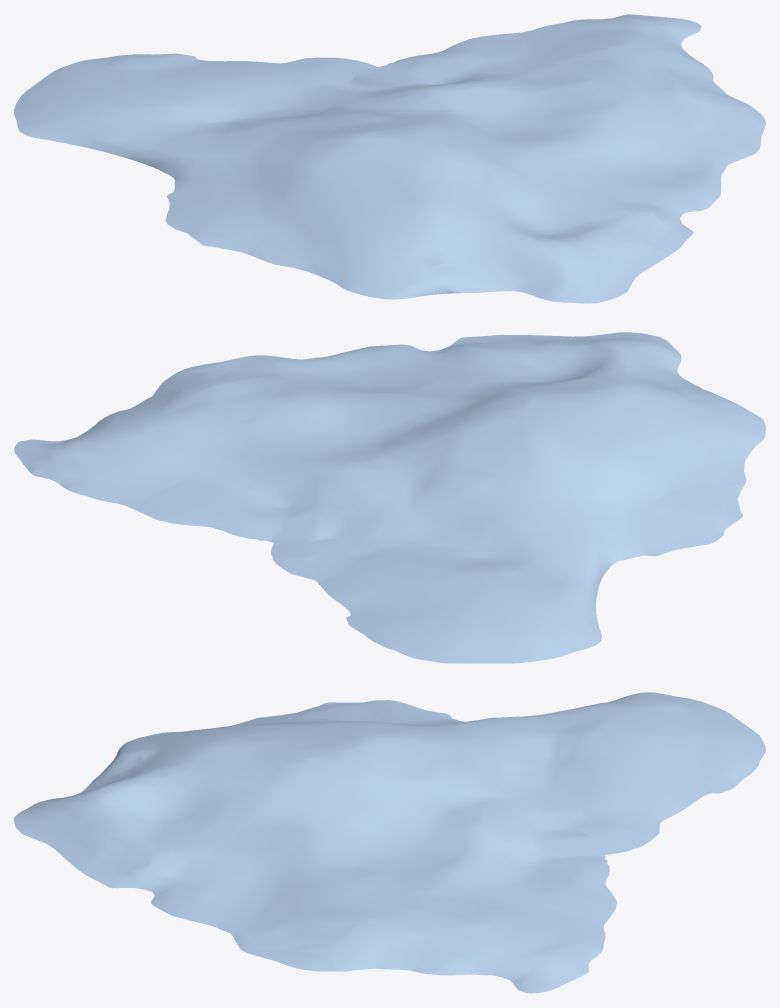
Rendered from IcePatchLarge_03.fbx.
The picture shows the model from 3 angles, top to bottom: view 1: azimuth 30°, elevation 25°; view 2: azimuth 150°, elevation 25°; view 3: azimuth 270°, elevation 25°; orthographic projection. The views are drawn at different scales.
Parts seen in each view (by area): view 1: IcePatchLarge_03.001; view 2: IcePatchLarge_03.001; view 3: IcePatchLarge_03.001.
Part boxes in pixels (bbox=[...]): IcePatchLarge_03.001: bbox=[14, 14, 765, 303]; IcePatchLarge_03.001: bbox=[14, 332, 765, 663]; IcePatchLarge_03.001: bbox=[14, 692, 765, 993].
Size of the model in its own units: 4.68 by 0.3686 by 4.94.
